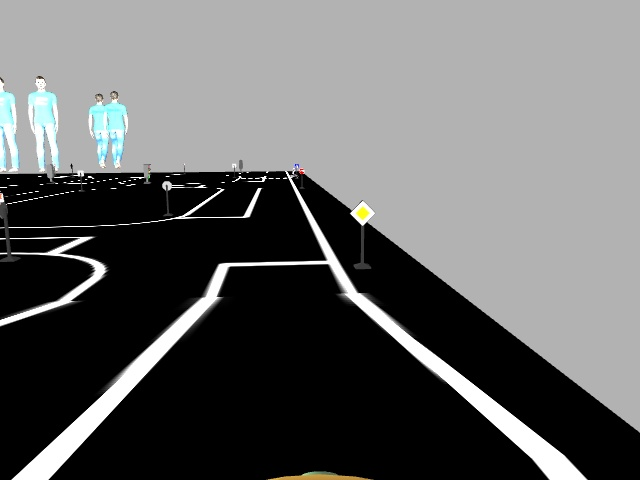Priority: (343, 198, 377, 224)
